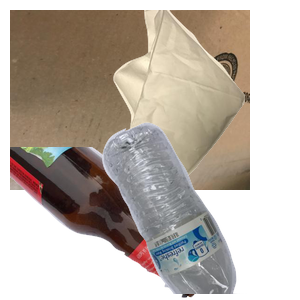cardboard: (10, 10, 250, 190)
glass: (10, 147, 207, 300)
plastic: (100, 120, 300, 300)
trash: (111, 10, 300, 190)
